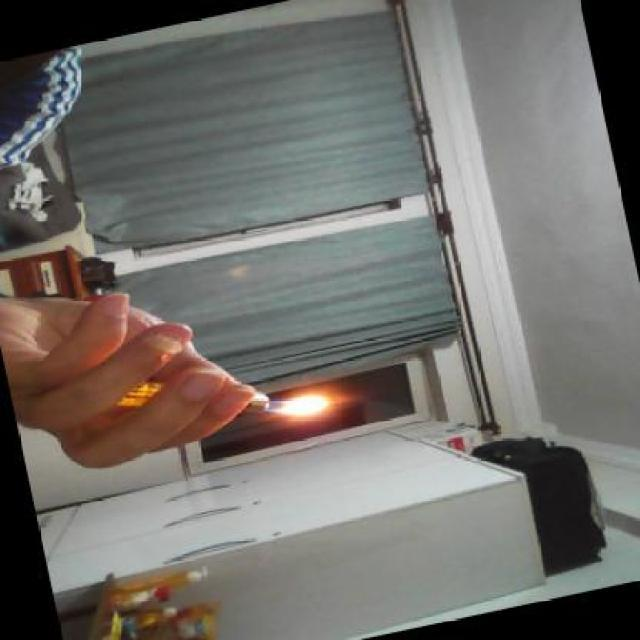Fire: (267, 389, 338, 419)
